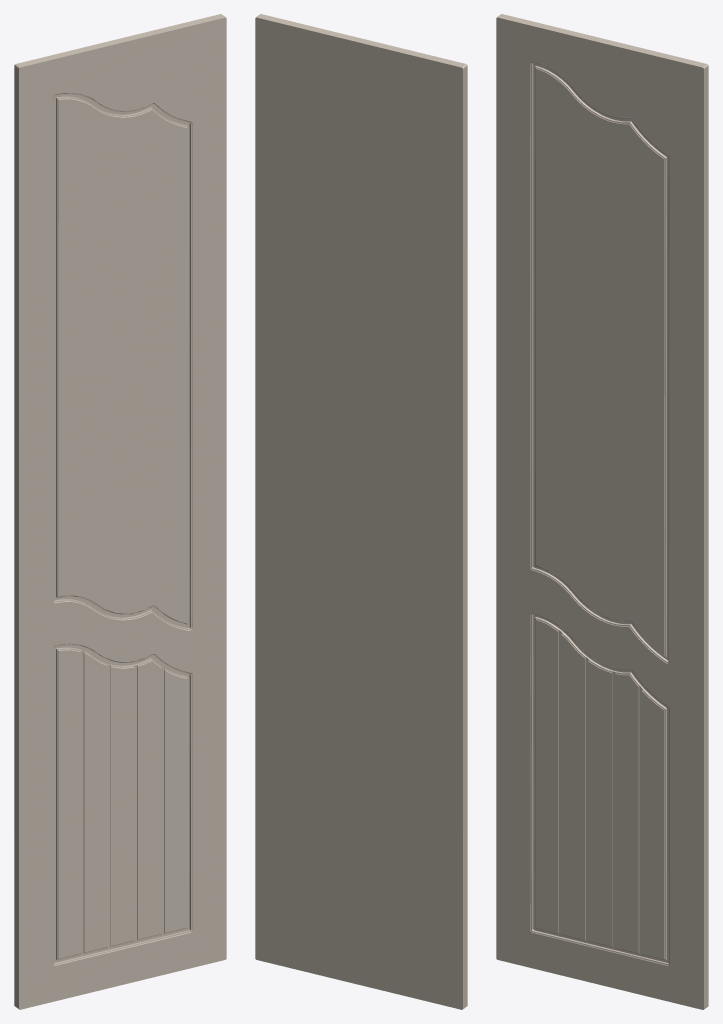
The model's file is nrd-boy-kpk-22.glb.
3 renders of one model, left to right at view 1: azimuth 30°, elevation 25°; view 2: azimuth 150°, elevation 25°; view 3: azimuth 330°, elevation 25°, orthographic.
Visible parts, largest first — view 1: NRD BOY KPK 22; view 2: NRD BOY KPK 22; view 3: NRD BOY KPK 22.
Part boxes in pixels (left/top/right/bottom): NRD BOY KPK 22: left=14, top=14, right=226, bottom=1009; NRD BOY KPK 22: left=255, top=14, right=467, bottom=1009; NRD BOY KPK 22: left=496, top=14, right=708, bottom=1009.
Bounding box in the file's own units: 0.4499 × 1.95 × 0.018.
